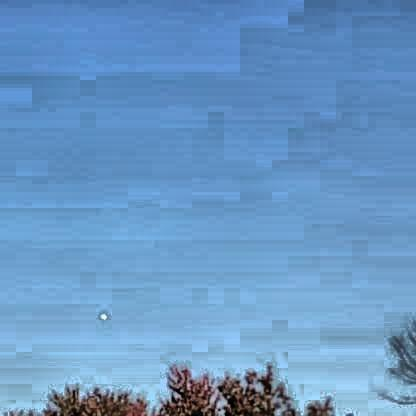golfball: (97, 310, 105, 318)
